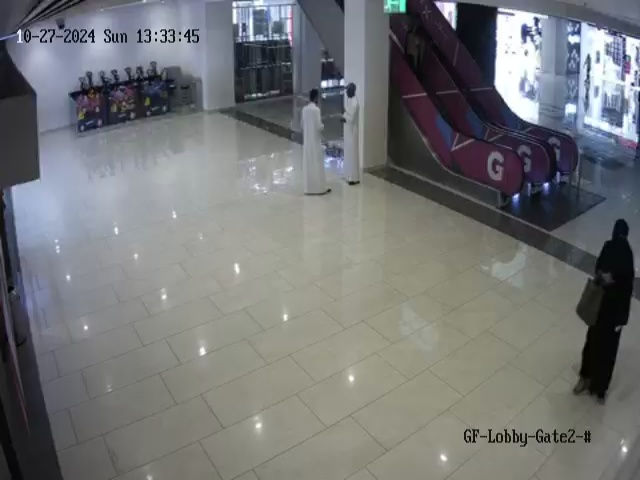female: (573, 218, 635, 403)
male: (337, 78, 372, 188), (300, 89, 332, 196)
